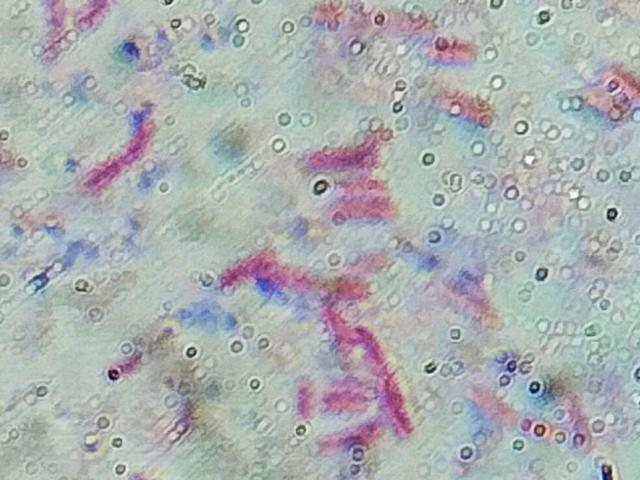E. coli: (363, 323, 410, 424), (92, 123, 160, 183), (428, 267, 496, 327), (275, 263, 385, 299), (42, 0, 99, 57), (321, 137, 393, 175), (316, 423, 381, 464), (316, 192, 399, 223), (468, 389, 525, 432), (431, 85, 482, 123), (556, 399, 596, 447), (356, 5, 413, 34), (596, 60, 630, 106), (429, 33, 474, 63), (319, 385, 374, 408), (223, 250, 264, 278), (293, 377, 315, 419), (325, 307, 349, 339)
